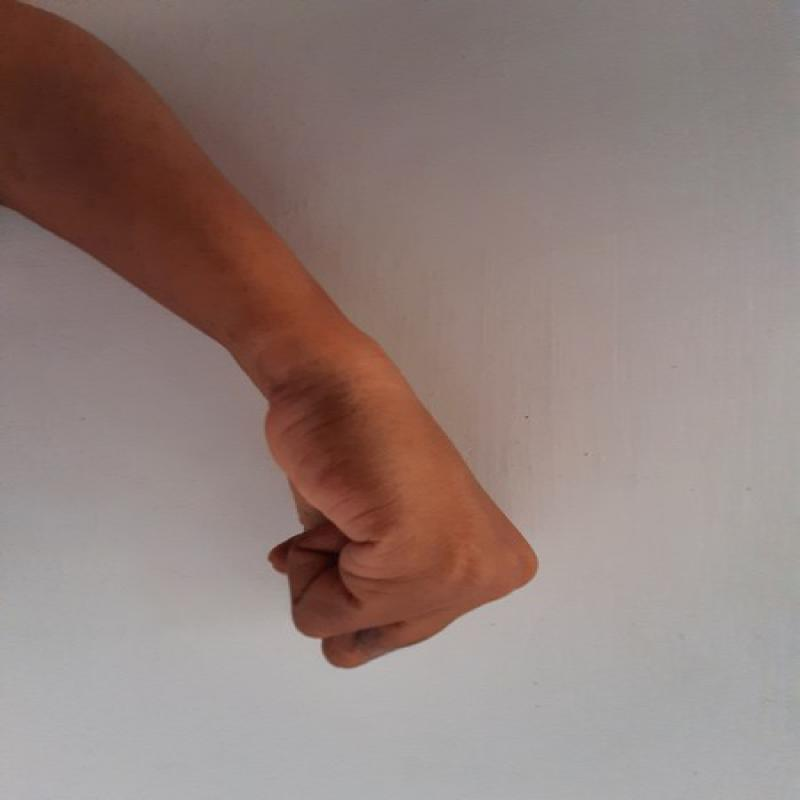Mushti: (250, 355, 556, 684)
